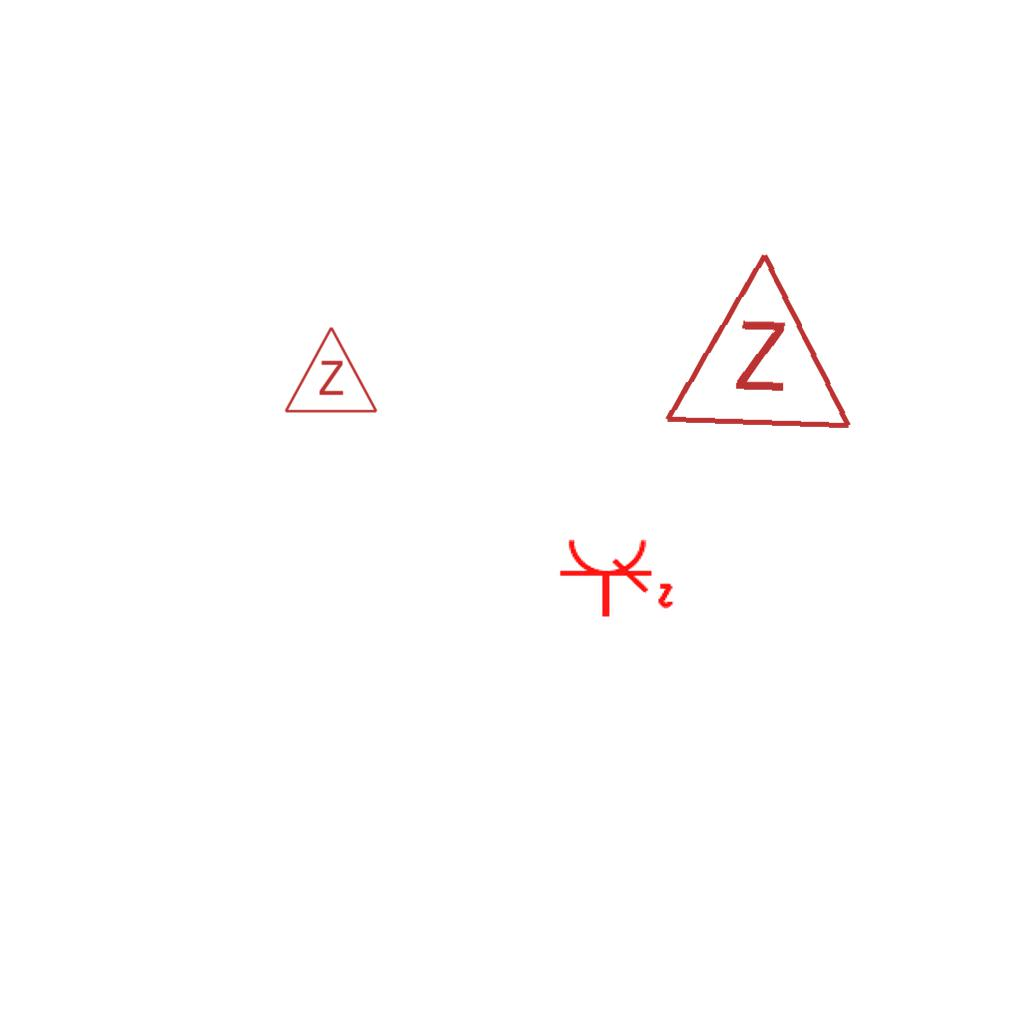Schukosteckdose_mehrfach: (555, 535, 676, 623)
Zimmersignalleuchte: (657, 236, 861, 444), (281, 320, 379, 420)
